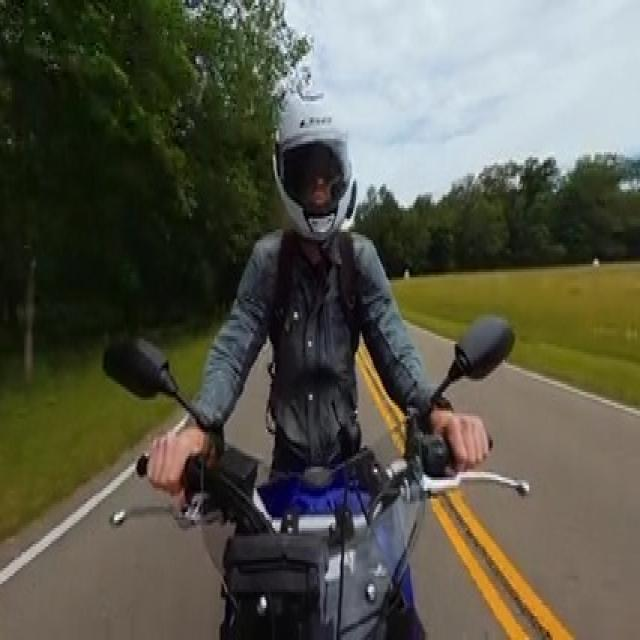Helmet_Wearer: (265, 84, 360, 249)
Person: (141, 73, 518, 490)
